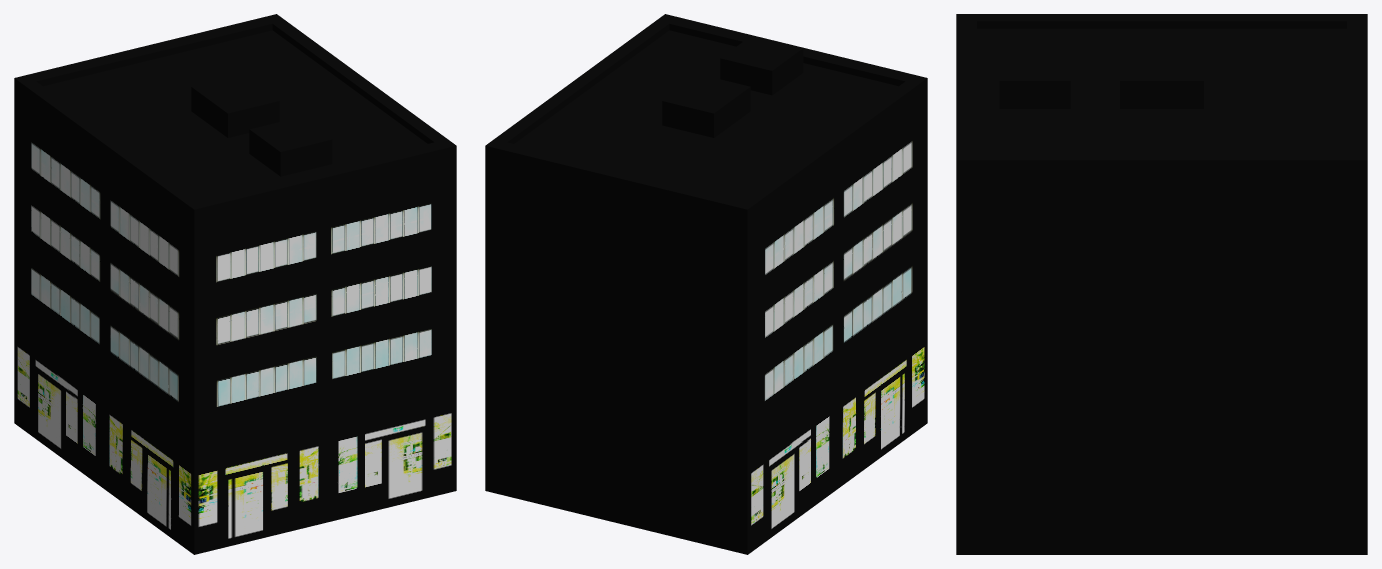
The model's file is house21.FBX.
3 views of the same model, side by side, from view 1: azimuth 30°, elevation 25°; view 2: azimuth 150°, elevation 25°; view 3: azimuth 270°, elevation 25° (orthographic). The views are drawn at different scales.
Parts seen in each view (by area): view 1: Box001; view 2: Box001; view 3: Box001.
Boxes of the visible parts, left/top/right/bottom form: Box001: left=14, top=14, right=456, bottom=554; Box001: left=485, top=14, right=927, bottom=554; Box001: left=956, top=14, right=1367, bottom=554.
Bounding box in the file's own units: 80 × 106 × 95.
